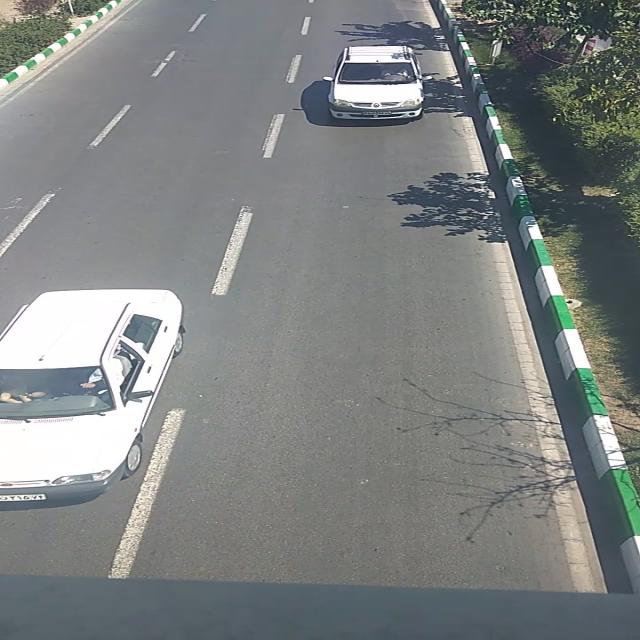car: (0, 286, 187, 504), (320, 46, 430, 123)
